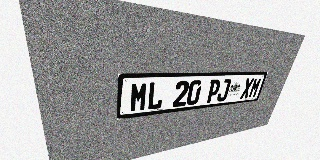0: (186, 80, 203, 106)
2: (172, 80, 190, 107)
J: (216, 79, 232, 102)
L: (146, 81, 165, 110)
M: (129, 82, 148, 112), (248, 78, 262, 98)
P: (205, 79, 222, 103)
X: (240, 78, 254, 99)
